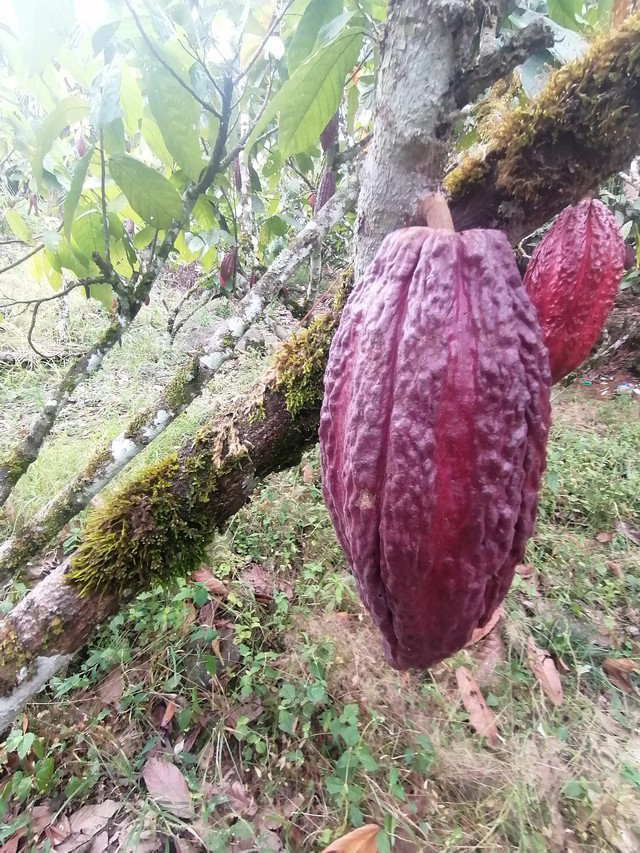Health: (307, 201, 561, 685), (514, 191, 632, 396)
